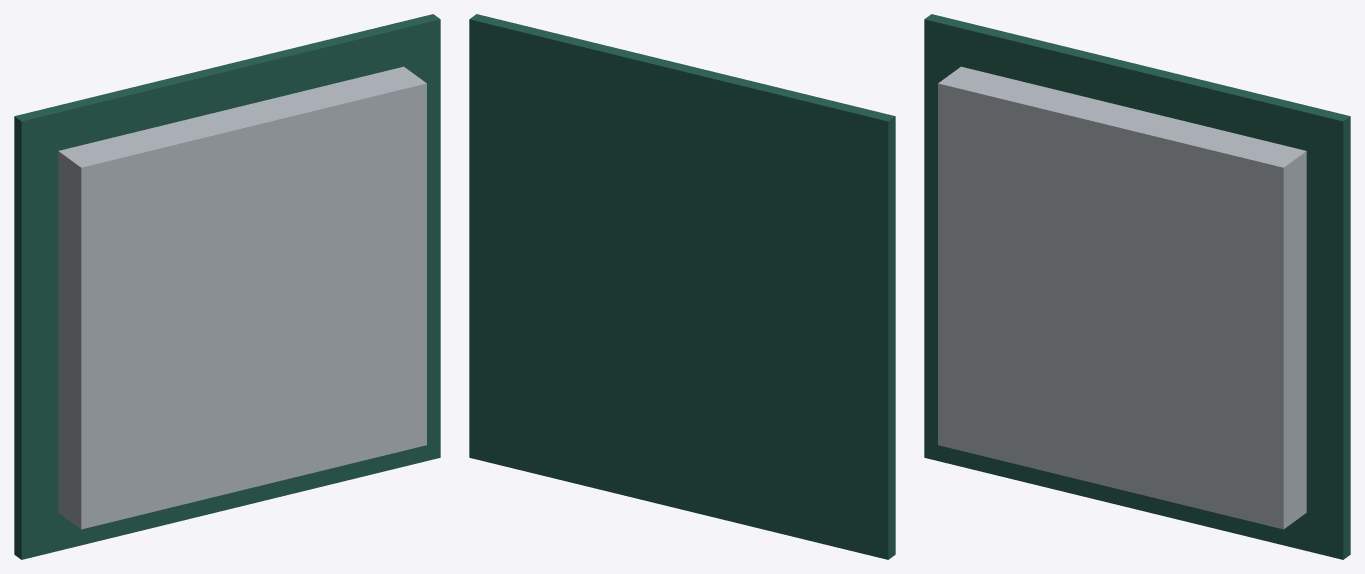
File: cpu-am5.glb
3 renders of one model, left to right at view 1: azimuth 30°, elevation 25°; view 2: azimuth 150°, elevation 25°; view 3: azimuth 330°, elevation 25°, orthographic.
Visible parts, largest first — view 1: Illustrative heat spreader, Package; view 2: Package; view 3: Illustrative heat spreader, Package.
Boxes of the visible parts, x1,y1,x2,y2 form: Illustrative heat spreader: (58, 66, 426, 529); Package: (14, 14, 440, 559); Package: (469, 14, 895, 559); Illustrative heat spreader: (938, 66, 1306, 529); Package: (924, 14, 1350, 559).
Size of the model in its own units: 0.04 by 0.04 by 0.005.
